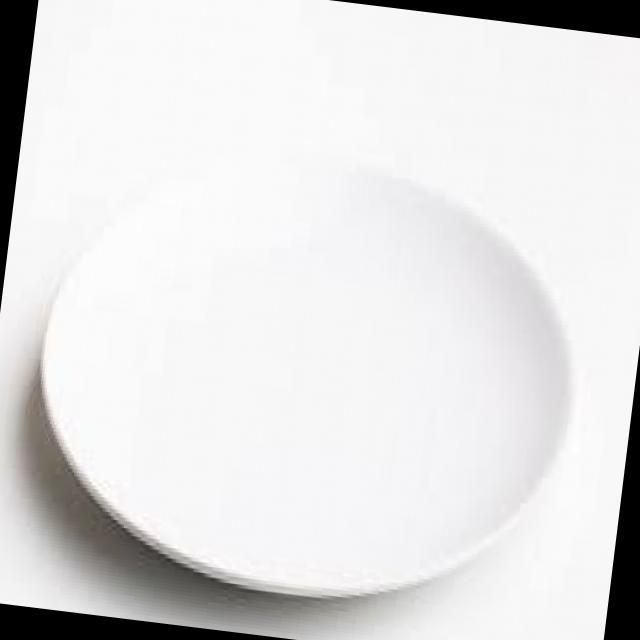plate: (0, 111, 603, 639)
